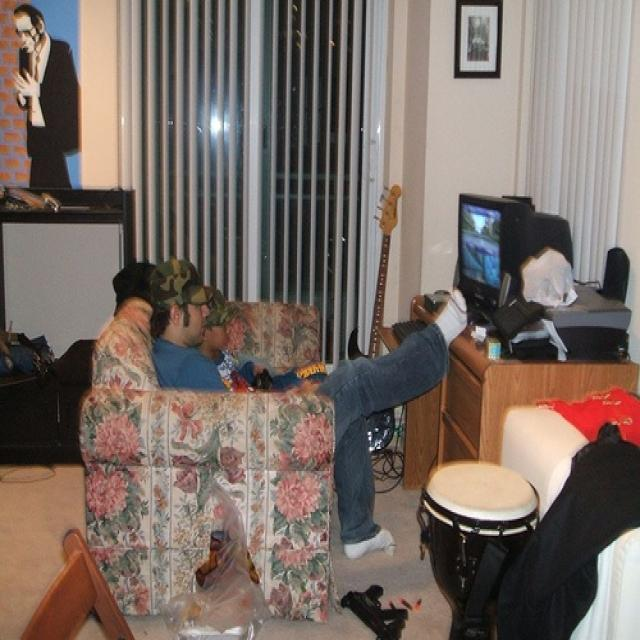person: (152, 260, 470, 561), (201, 288, 327, 392)
tvmonitor: (461, 194, 575, 318)
